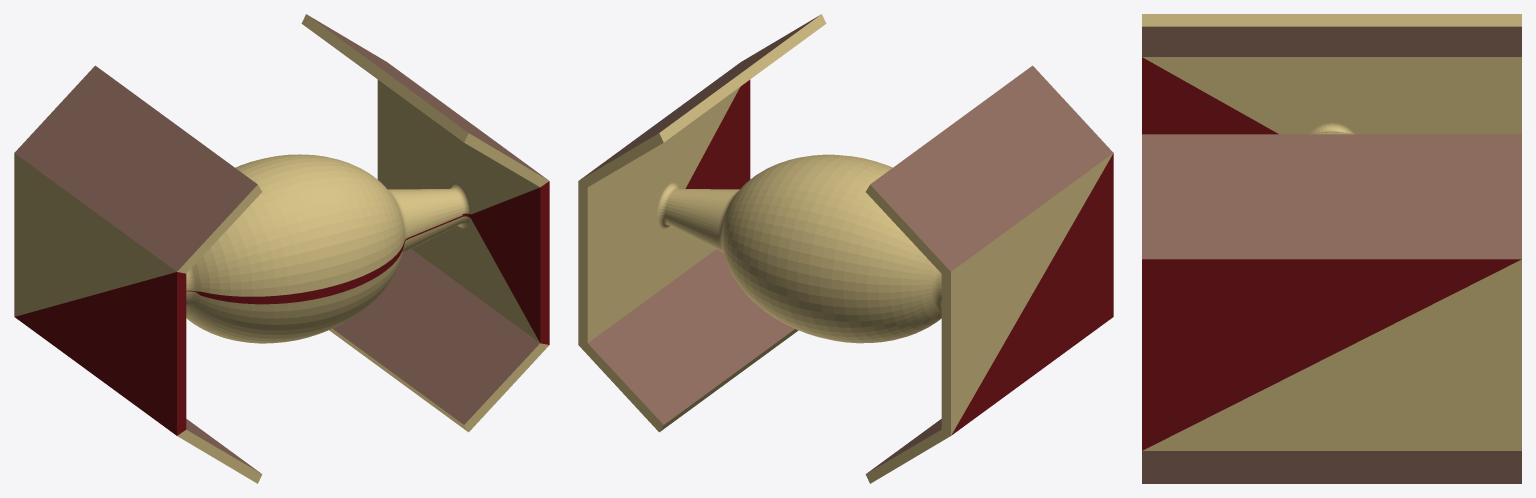
The model's file is drone.glb.
The picture shows the model from 3 angles, left to right: view 1: azimuth 30°, elevation 25°; view 2: azimuth 150°, elevation 25°; view 3: azimuth 270°, elevation 25°; orthographic projection. The views are drawn at different scales.
Visible parts, largest first — view 1: Pièce2; view 2: Pièce2; view 3: Pièce2.
Part boxes in pixels (<box>): Pièce2: <box>14,14,549,483</box>; Pièce2: <box>578,14,1113,483</box>; Pièce2: <box>1142,14,1521,483</box>.
Size of the model in its own units: 49.01 by 37.65 by 37.04.
